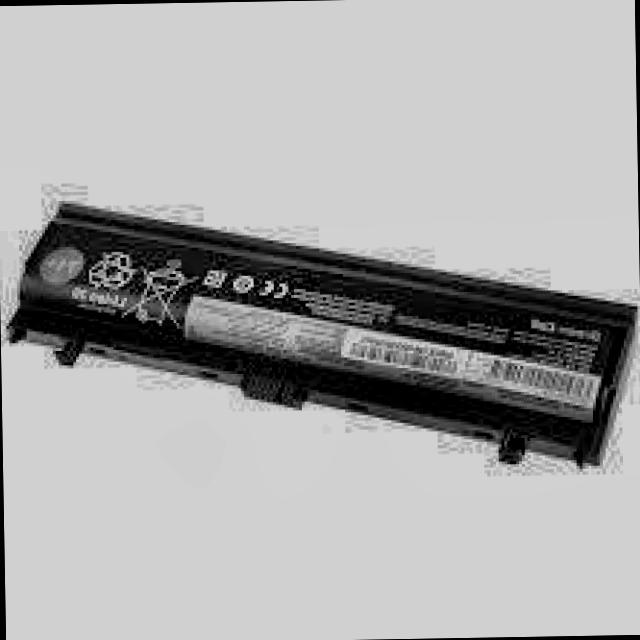Battery: (0, 193, 640, 495)
